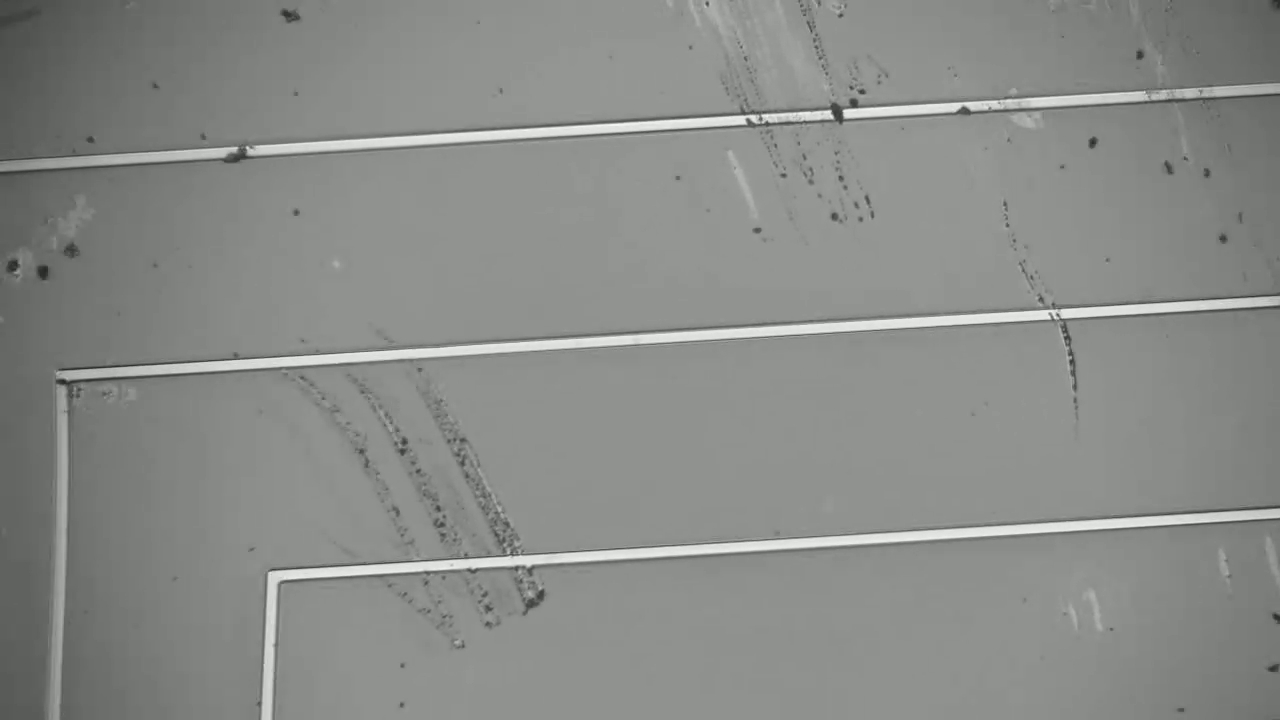scratch: (260, 316, 545, 636), (971, 197, 1086, 444)
stains_enbedded: (219, 135, 263, 171), (952, 93, 982, 125), (823, 95, 849, 130)
